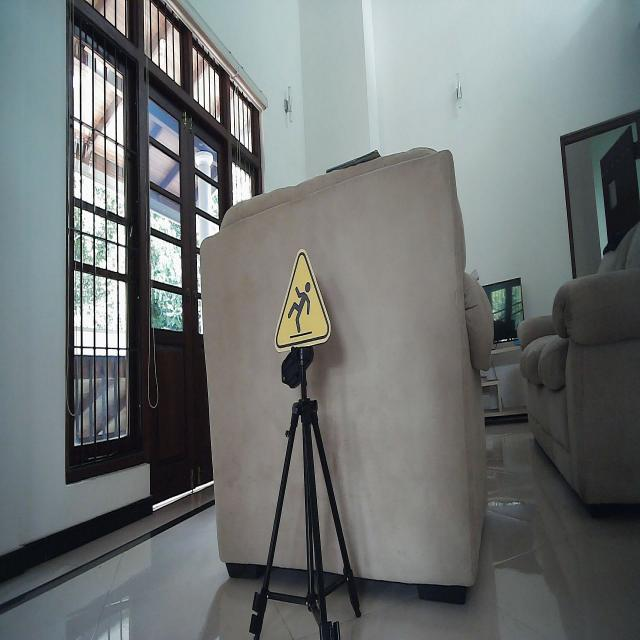slippery_sign: (272, 248, 334, 353)
